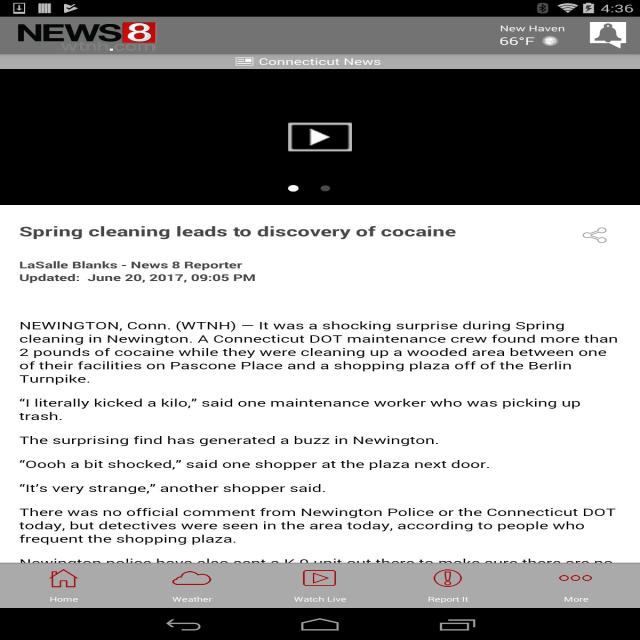button: (280, 563, 360, 609), (28, 562, 106, 607), (158, 562, 229, 609), (414, 563, 484, 608), (547, 564, 602, 607), (289, 123, 353, 151), (590, 21, 631, 48), (583, 225, 608, 247)
heading: (20, 225, 457, 241)
image: (1, 70, 640, 205), (13, 21, 158, 52), (540, 34, 563, 49)
text: (13, 393, 623, 564), (9, 318, 620, 384), (16, 260, 262, 286), (255, 58, 382, 68), (498, 23, 567, 34), (500, 34, 538, 50)
